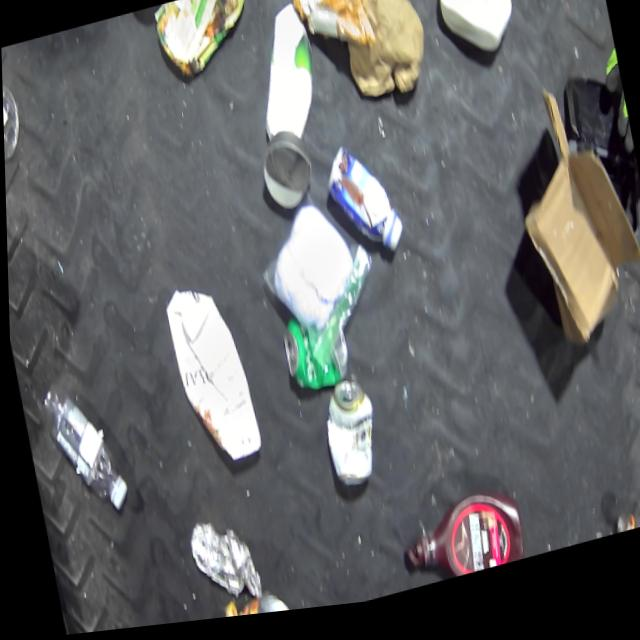can: (312, 380, 382, 502), (273, 307, 353, 408), (254, 130, 318, 222), (209, 587, 297, 623)
milk_jug: (159, 275, 260, 478), (242, 3, 326, 156)
plastic_bottle: (34, 365, 129, 528)
